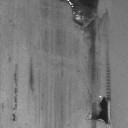slag inclusion: (58, 0, 114, 128), (11, 64, 19, 121), (29, 57, 36, 92), (2, 103, 4, 112)
